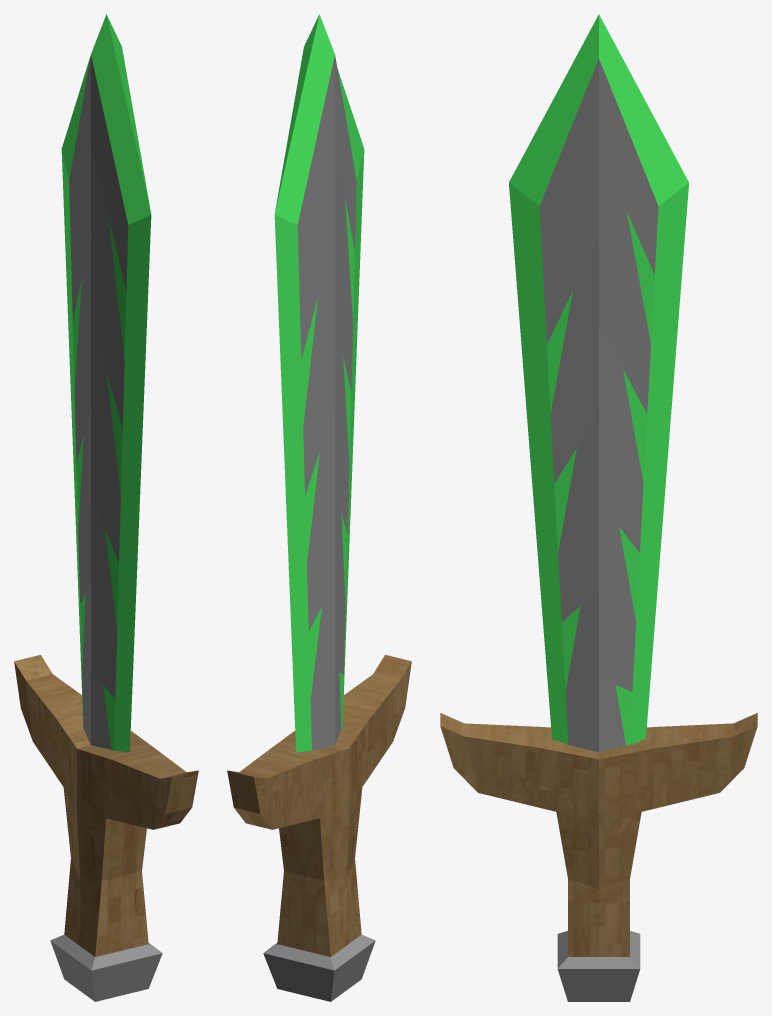
Rendered from item_sword_emerald.fbx.
3 renders of one model, left to right at view 1: azimuth 30°, elevation 25°; view 2: azimuth 150°, elevation 25°; view 3: azimuth 270°, elevation 25°, orthographic.
Parts seen in each view (by area): view 1: Hold; view 2: Hold; view 3: Hold.
Part boxes in pixels (x1,y1,x2,y2): Hold: (14,14,198,1001); Hold: (227,14,411,1001); Hold: (440,14,757,1001).
Bounding box in the file's own units: 100 × 1299 × 384.
3 materials, 1 textured.
